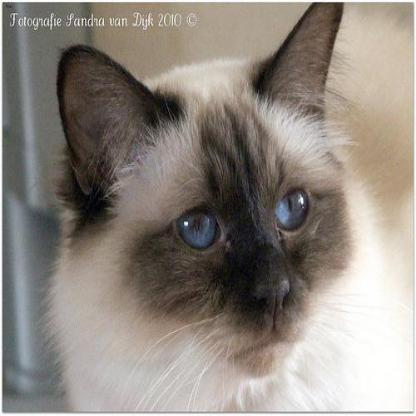cat: (53, 0, 414, 412)
